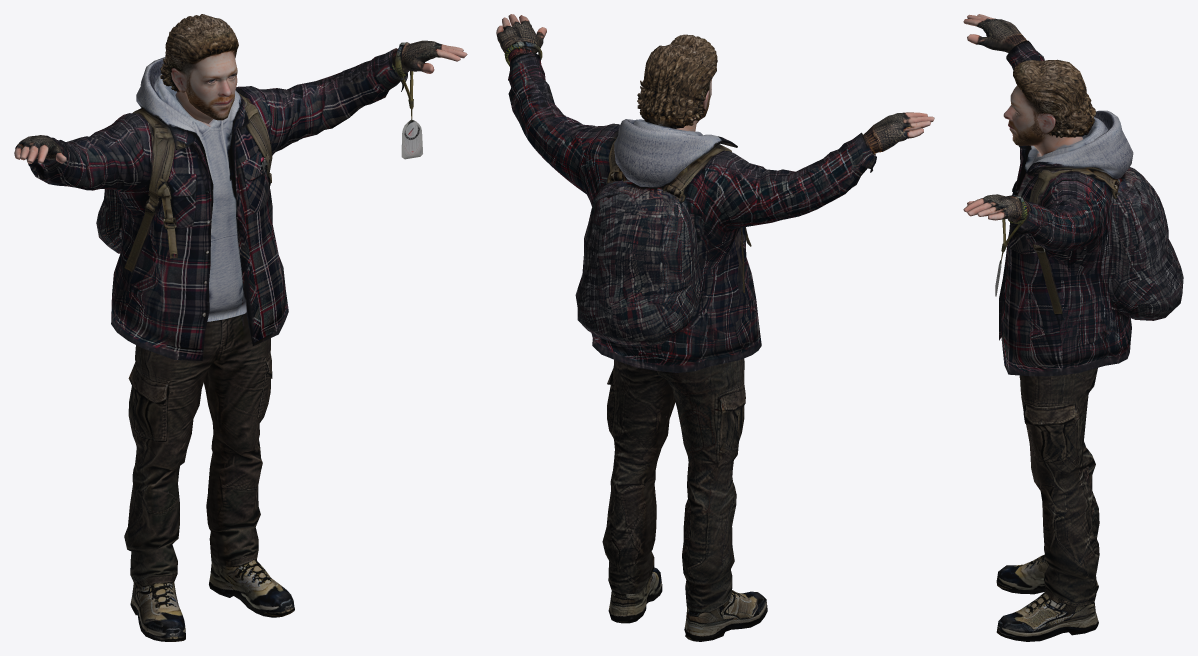
The model's file is tripo_convert_00cf0e88-9ae2-4597-a43d-1df7b14d7f82.fbx.
3 views of the same model, side by side, from view 1: azimuth 30°, elevation 25°; view 2: azimuth 150°, elevation 25°; view 3: azimuth 270°, elevation 25° (orthographic). The views are drawn at different scales.
Parts seen in each view (by area): view 1: tripo_node_00cf0e88; view 2: tripo_node_00cf0e88; view 3: tripo_node_00cf0e88.
Part boxes in pixels (bbox=[...]): tripo_node_00cf0e88: bbox=[14, 14, 467, 641]; tripo_node_00cf0e88: bbox=[496, 14, 934, 641]; tripo_node_00cf0e88: bbox=[963, 14, 1183, 641].
Bounding box in the file's own units: 78.56 × 36.47 × 99.95.
1 material, 1 textured.
